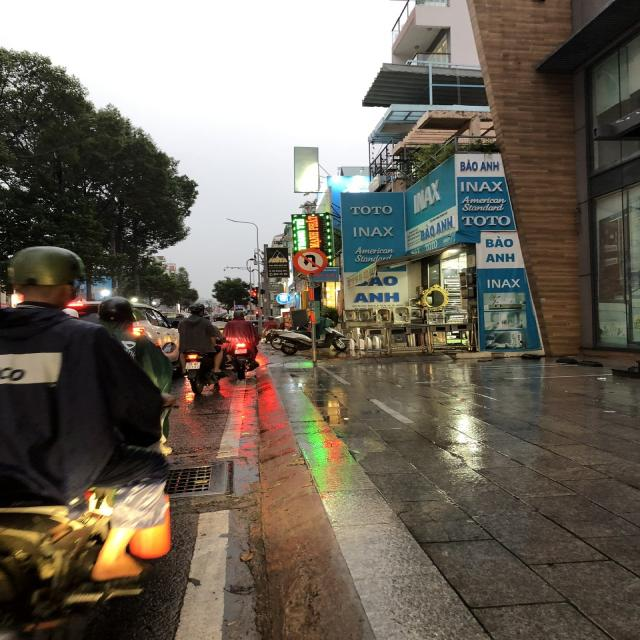Bien bao cam quay dau xe: (289, 245, 330, 276)
